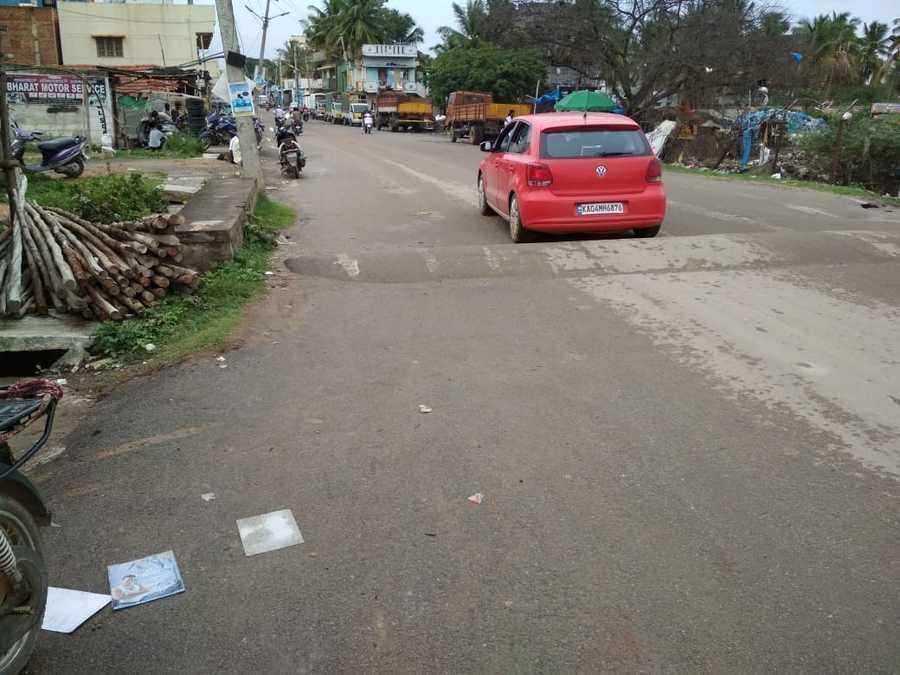speedbreaker: (277, 228, 900, 288)
